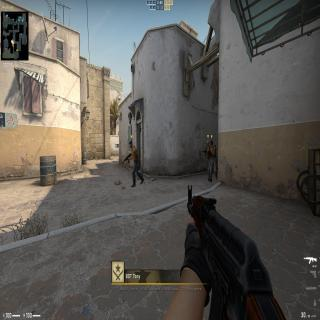T-Head: (128, 140, 134, 148), (210, 140, 214, 149), (206, 140, 210, 147)
